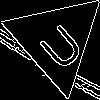U: (31, 15, 87, 74)
